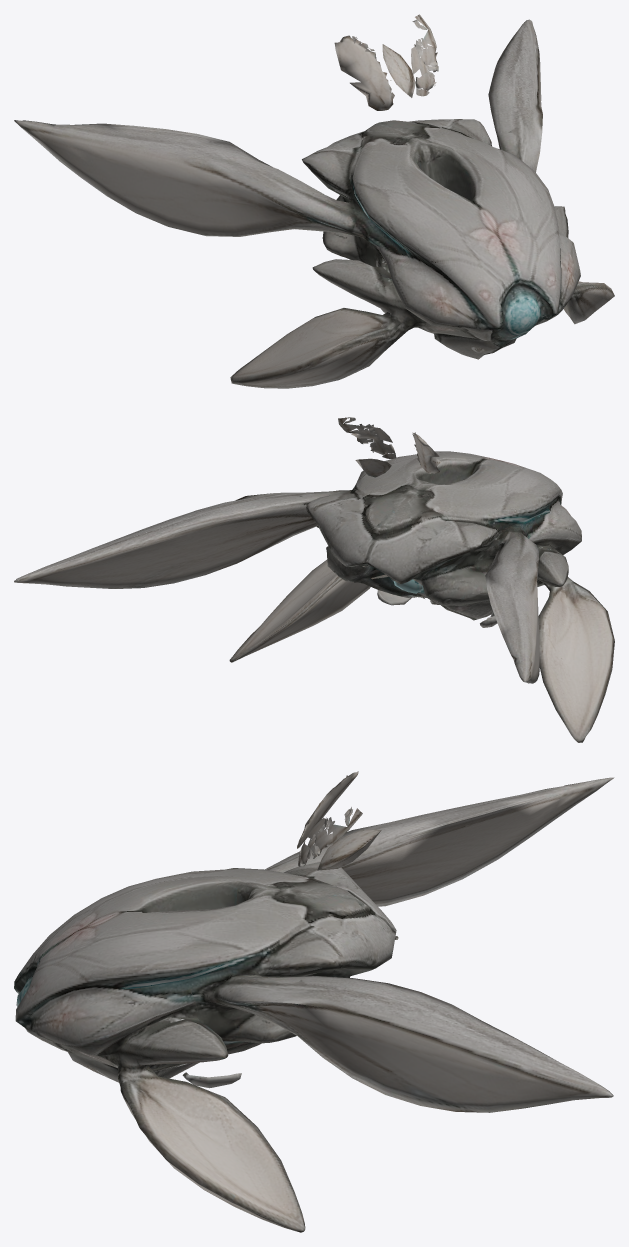
File: drone3dmodel.glb
The picture shows the model from 3 angles, top to bottom: view 1: azimuth 30°, elevation 25°; view 2: azimuth 150°, elevation 25°; view 3: azimuth 270°, elevation 25°; orthographic projection. The views are drawn at different scales.
Parts seen in each view (by area): view 1: tripo_node_56aeed17-346d-4a5c-98f3-d35b91627b18; view 2: tripo_node_56aeed17-346d-4a5c-98f3-d35b91627b18; view 3: tripo_node_56aeed17-346d-4a5c-98f3-d35b91627b18.
Part boxes in pixels (x1=…): tripo_node_56aeed17-346d-4a5c-98f3-d35b91627b18: x1=14, y1=14, x2=614, y2=388; tripo_node_56aeed17-346d-4a5c-98f3-d35b91627b18: x1=14, y1=417, x2=614, y2=742; tripo_node_56aeed17-346d-4a5c-98f3-d35b91627b18: x1=14, y1=771, x2=614, y2=1232.
Size of the model in its own units: 0.9825 by 0.5436 by 0.8597.
1 material, 1 textured.
